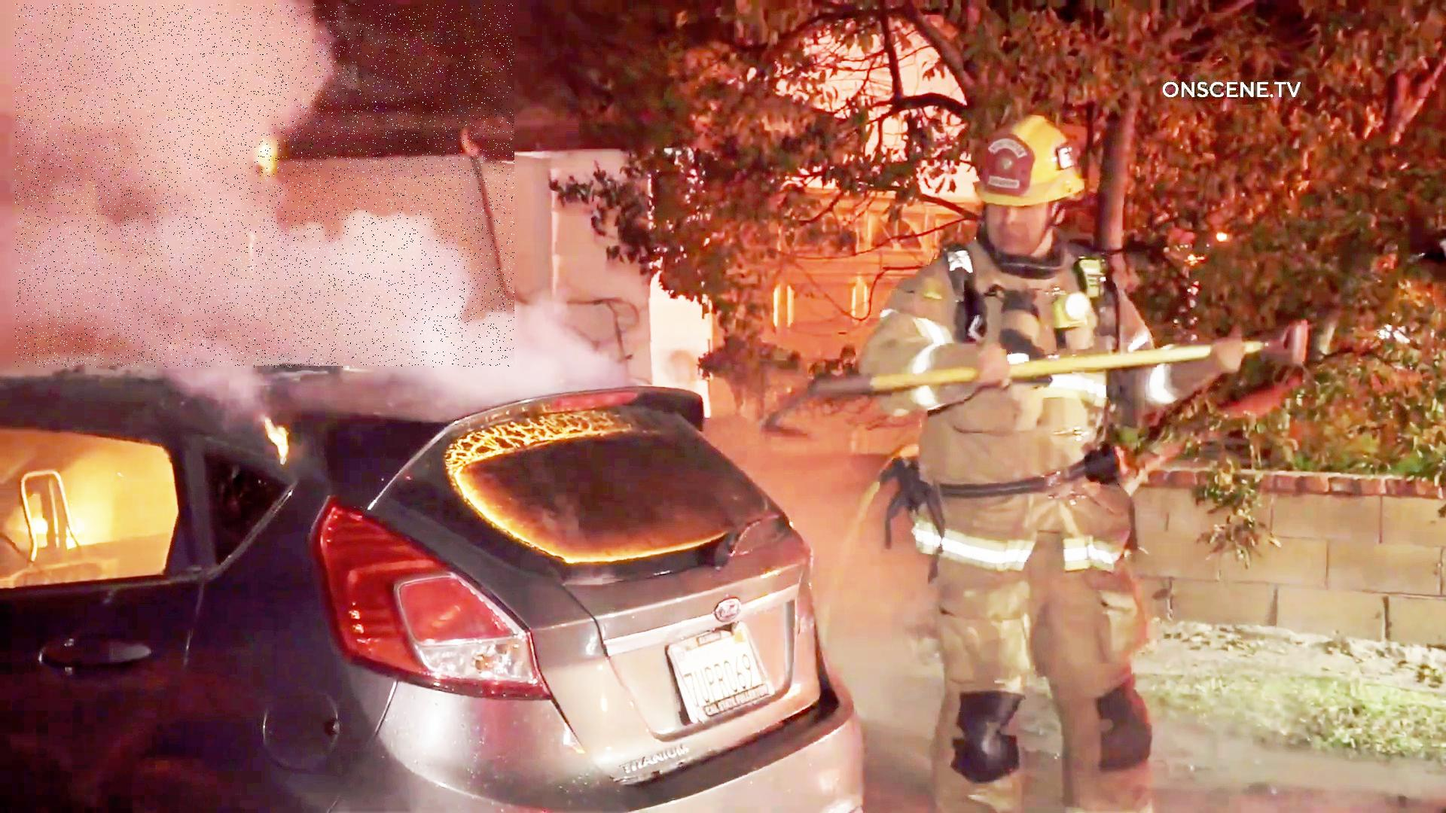smoke: (15, 4, 515, 368)
